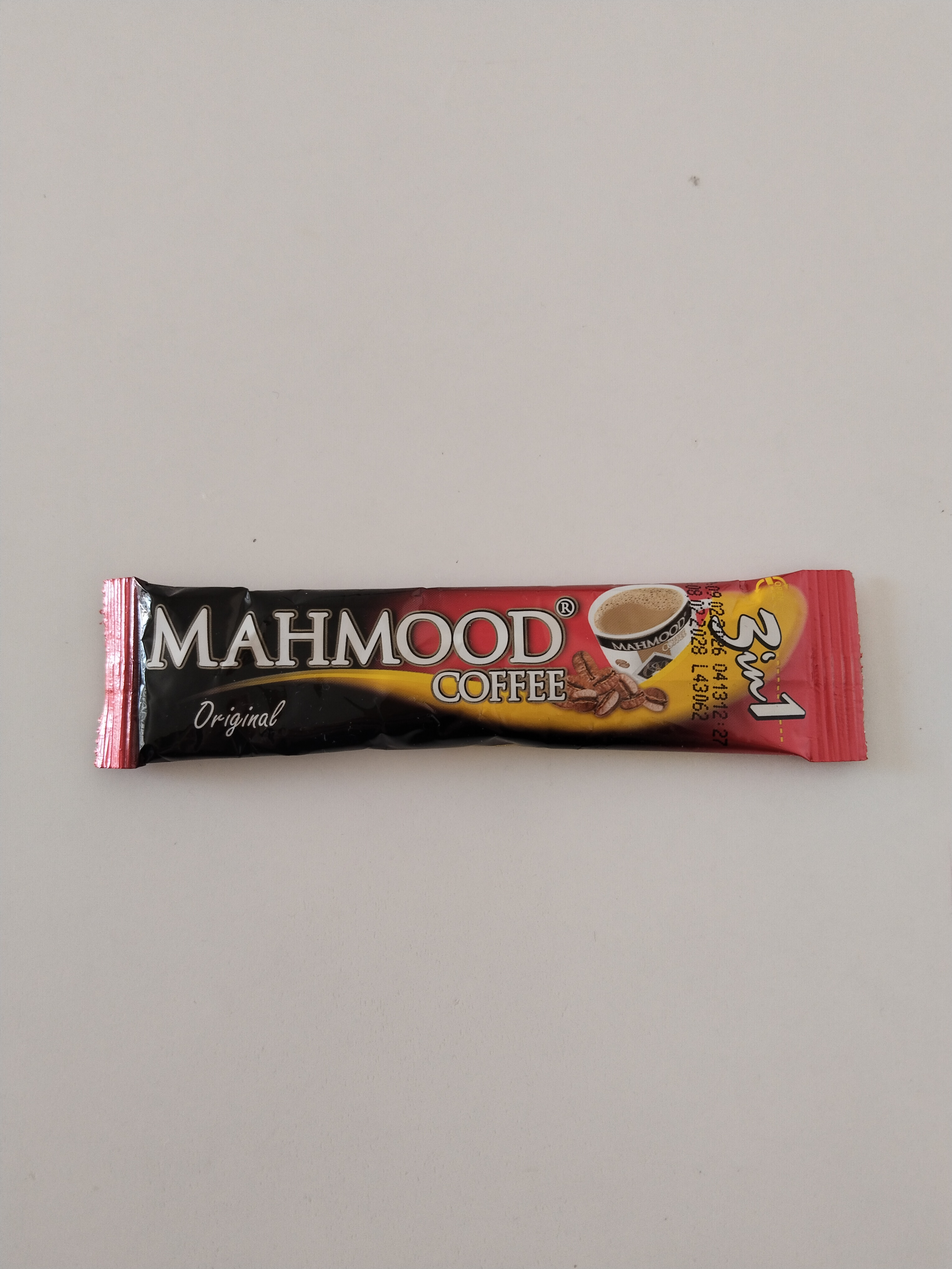mahmood_kahve: (95, 569, 870, 769)
